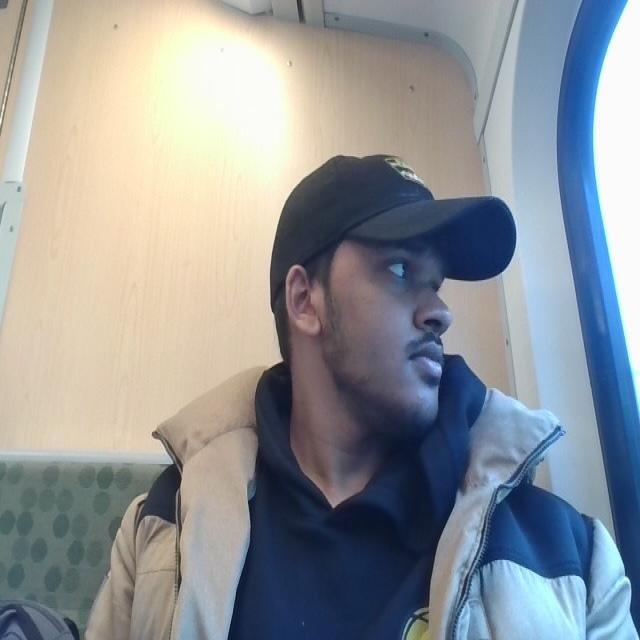hat: (266, 147, 520, 291)
